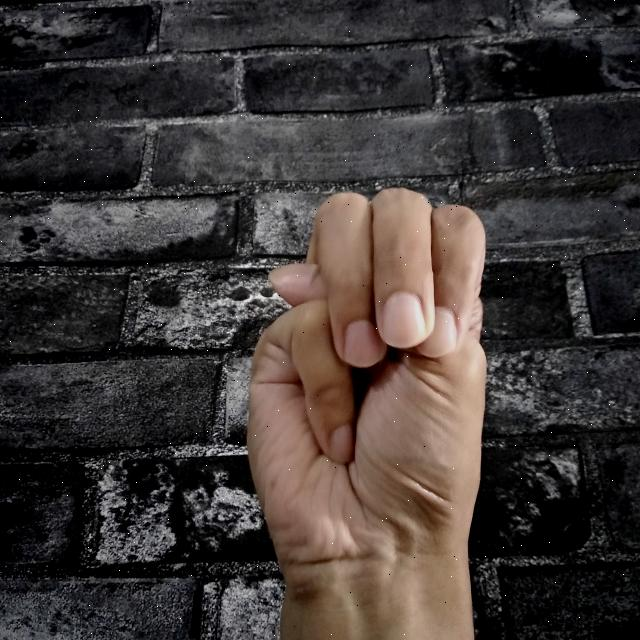M: (239, 182, 501, 640)
